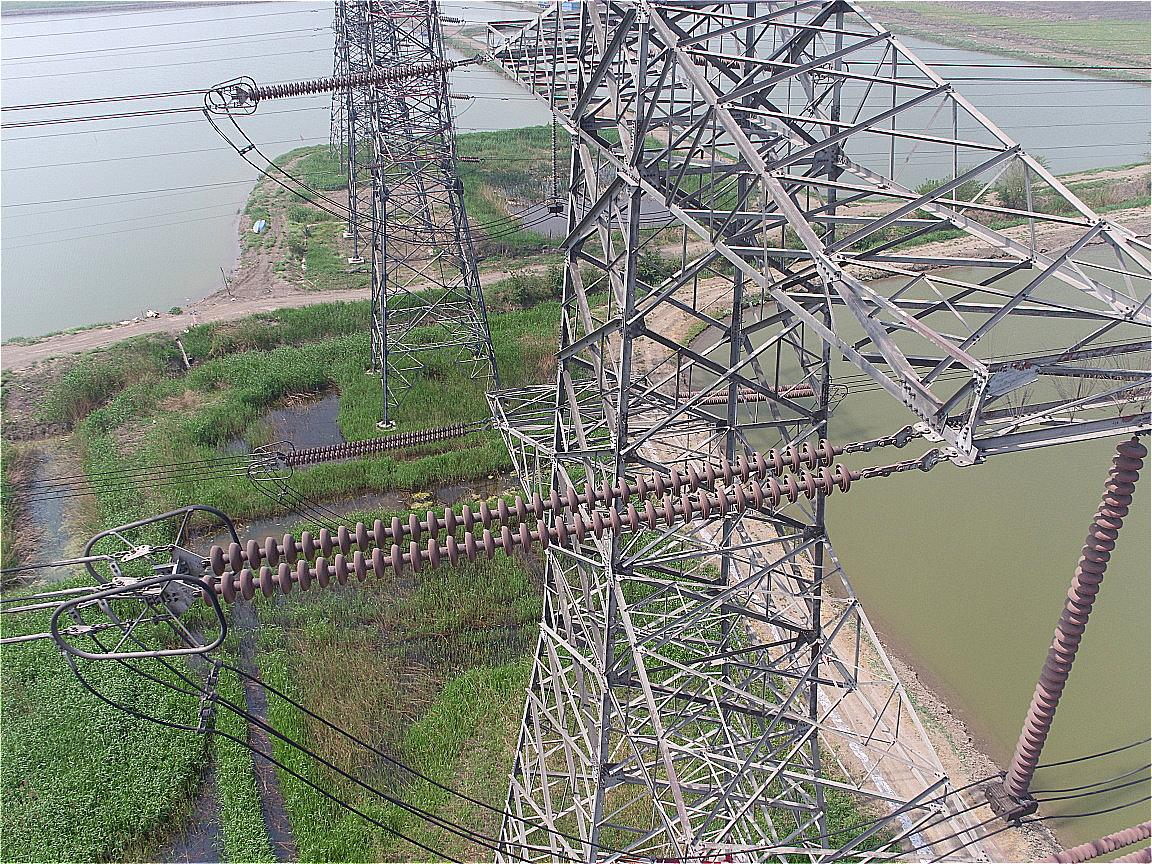insultor1: (194, 436, 868, 613)
insultor2: (245, 51, 472, 113), (283, 422, 473, 468)
